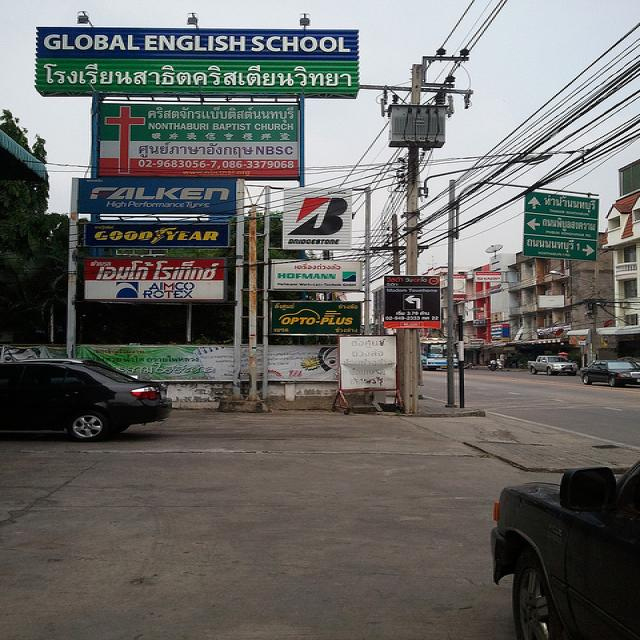motor: (487, 359, 504, 372)
